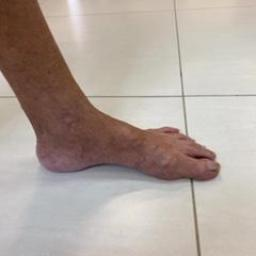Medial View -Left Foot-: (12, 74, 237, 204)
